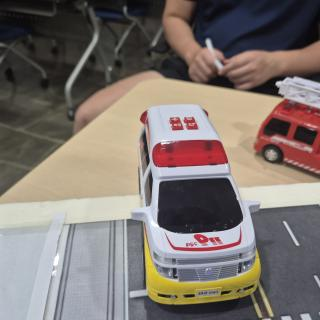Ambulance: (131, 105, 260, 304)
